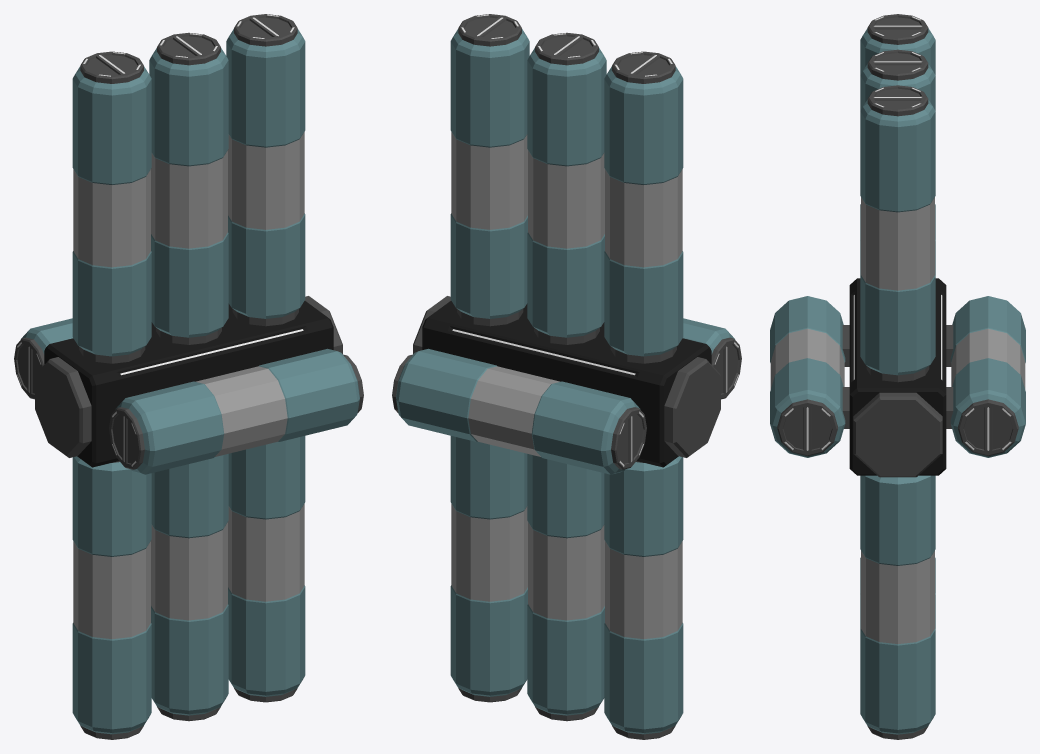
The model's file is SS_Cargo1.fbx.
The picture shows the model from 3 angles, left to right: view 1: azimuth 30°, elevation 25°; view 2: azimuth 150°, elevation 25°; view 3: azimuth 270°, elevation 25°; orthographic projection. The views are drawn at different scales.
Visible parts, largest first — view 1: Cylinder.000; view 2: Cylinder.000; view 3: Cylinder.000.
Boxes of the visible parts, x1,y1,x2,y2 form: Cylinder.000: (14,14,363,739); Cylinder.000: (392,14,741,739); Cylinder.000: (770,14,1025,739).
Bounding box in the file's own units: 600 × 1442 × 531.
